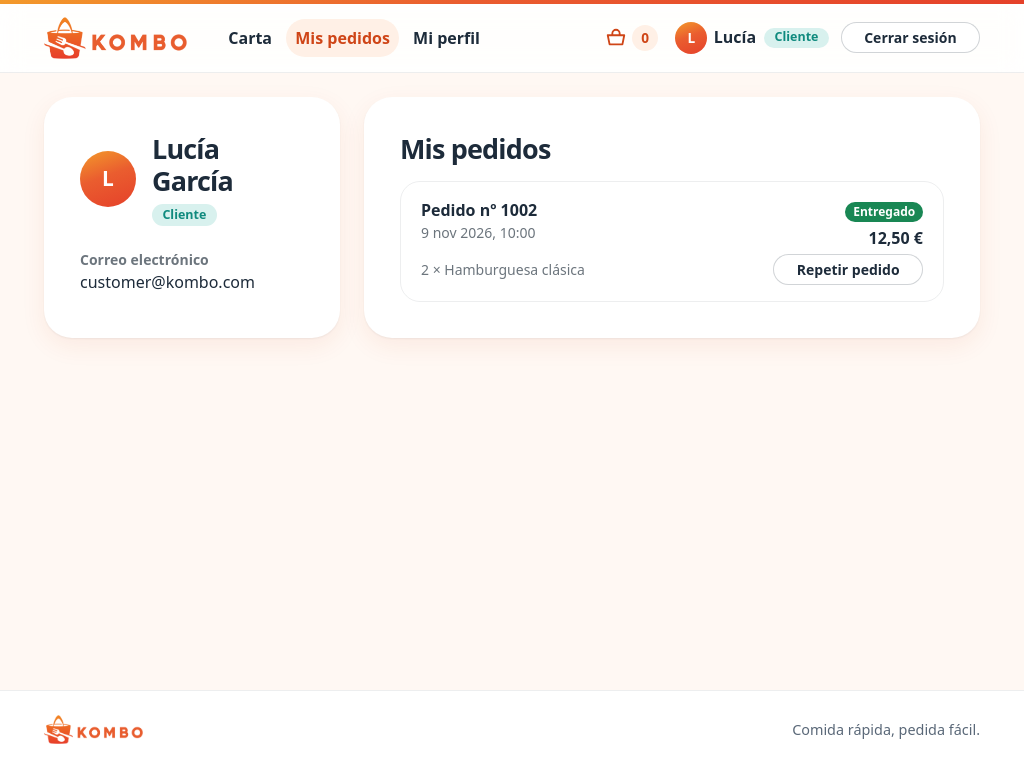
Scenario: ProfilePage › repeats an order: its products go to the cart
Click the button "Repetir pedido".
click(848, 270)  # box [773,254,923,285]
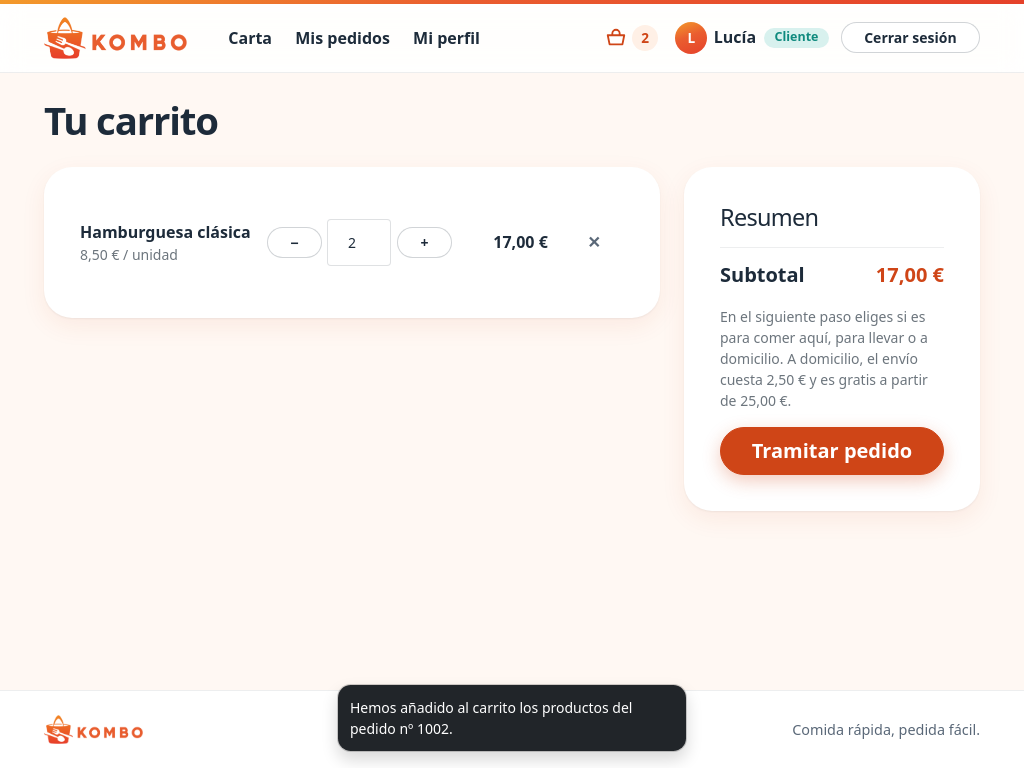
Check: the text "Hemos añadido al carrito los productos del pedido nº 1002." is shown, box [350,698,632,738]
